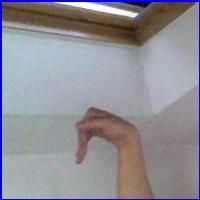del: (71, 102, 140, 171)
